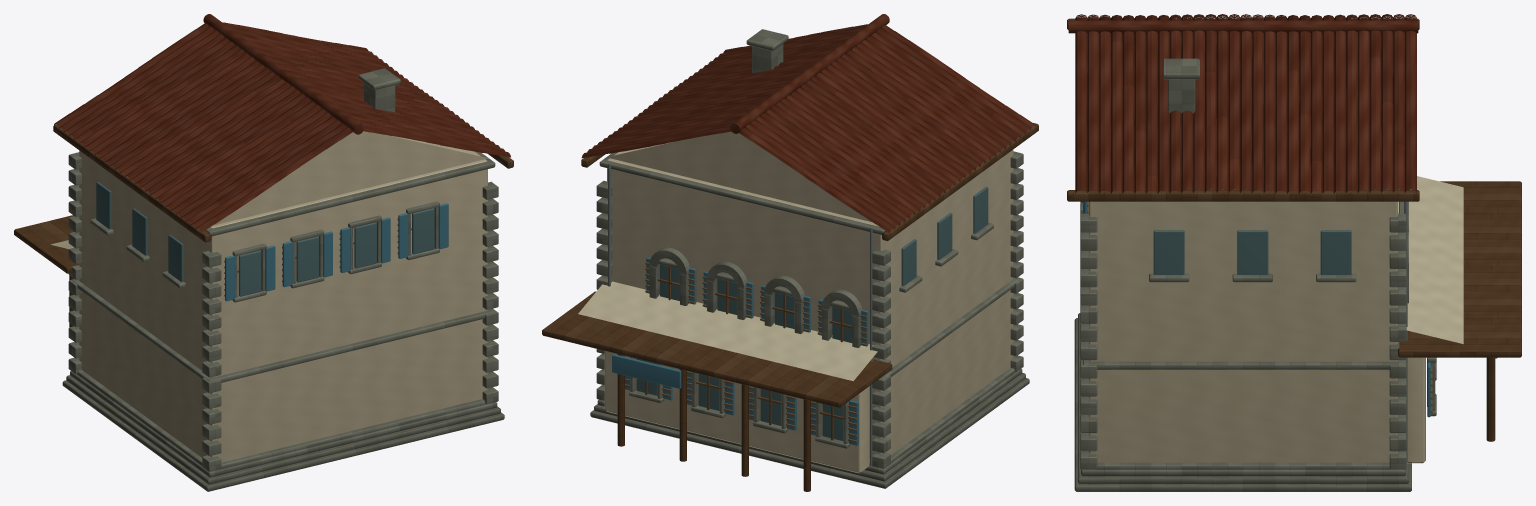
The model's file is building_merchant_a.glb.
3 renders of one model, left to right at view 1: azimuth 30°, elevation 25°; view 2: azimuth 150°, elevation 25°; view 3: azimuth 270°, elevation 25°, orthographic. The views are drawn at different scales.
Parts seen in each view (by area): view 1: stucco_volume, individual_barrel_roof_tiles, stepped_stone_plinth, window_recess, shutter, carved_double_door; view 2: stucco_volume, individual_barrel_roof_tiles, stepped_stone_plinth, carved_double_door, striped_loggia_canopy, window_recess, shutter, shutter_louvre, mullion, rainwater_downpipe; view 3: stucco_volume, individual_barrel_roof_tiles, stepped_stone_plinth, carved_double_door, striped_loggia_canopy, window_recess, rainwater_downpipe.
Part boxes in pixels (<box>): stucco_volume: <box>79,131,488,462</box>; individual_barrel_roof_tiles: <box>54,14,510,232</box>; stepped_stone_plinth: <box>62,68,504,491</box>; window_recess: <box>96,182,434,296</box>; shutter: <box>225,203,448,301</box>; carved_double_door: <box>14,124,513,327</box>; stucco_volume: <box>604,131,1013,473</box>; individual_barrel_roof_tiles: <box>581,14,1035,233</box>; stepped_stone_plinth: <box>590,29,1029,488</box>; carved_double_door: <box>542,123,1038,491</box>; striped_loggia_canopy: <box>578,281,877,381</box>; window_recess: <box>636,186,988,441</box>; shutter: <box>612,257,868,445</box>; shutter_louvre: <box>625,262,867,442</box>; mullion: <box>645,266,852,440</box>; rainwater_downpipe: <box>608,163,872,466</box>; stucco_volume: <box>1088,201,1425,463</box>; individual_barrel_roof_tiles: <box>1068,14,1418,193</box>; stepped_stone_plinth: <box>1074,58,1436,491</box>; carved_double_door: <box>1067,18,1521,441</box>; striped_loggia_canopy: <box>1398,176,1463,343</box>; window_recess: <box>1083,202,1427,406</box>; rainwater_downpipe: <box>1404,201,1407,461</box>.
Size of the model in its own units: 13.42 by 13.81 by 14.7.
Materials: 10 (6 with a texture image).
